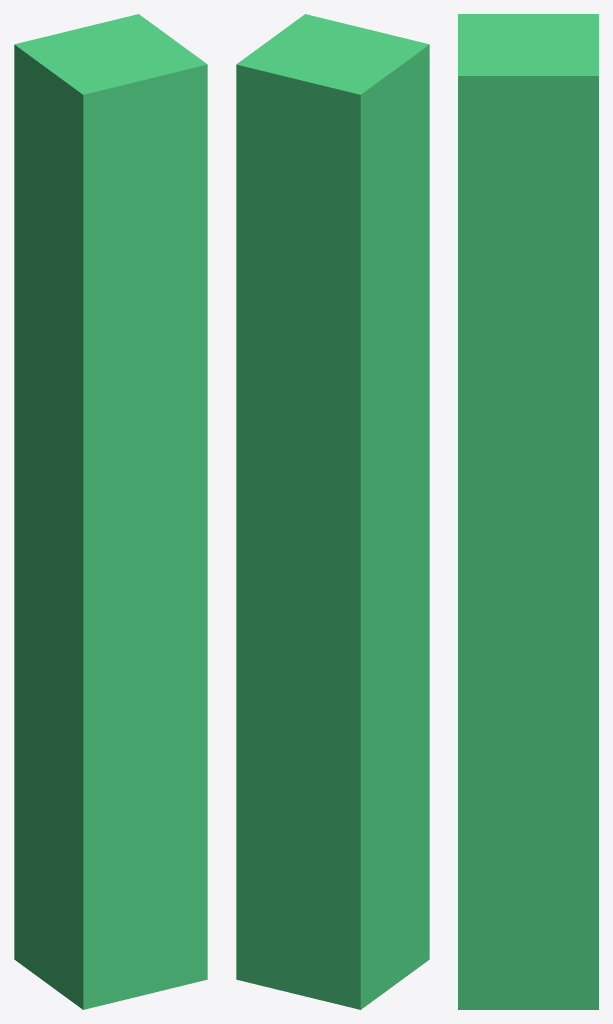
The model's file is street_lamp.DAE.
The picture shows the model from 3 angles, left to right: view 1: azimuth 30°, elevation 25°; view 2: azimuth 150°, elevation 25°; view 3: azimuth 270°, elevation 25°; orthographic projection. The views are drawn at different scales.
Visible parts, largest first — view 1: bounds; view 2: bounds; view 3: bounds.
Boxes of the visible parts, x1,y1,x2,y2 form: bounds: (14, 14, 207, 1009); bounds: (236, 14, 429, 1009); bounds: (458, 14, 598, 1009).
Size of the model in its own units: 30.31 by 29.1 by 213.
